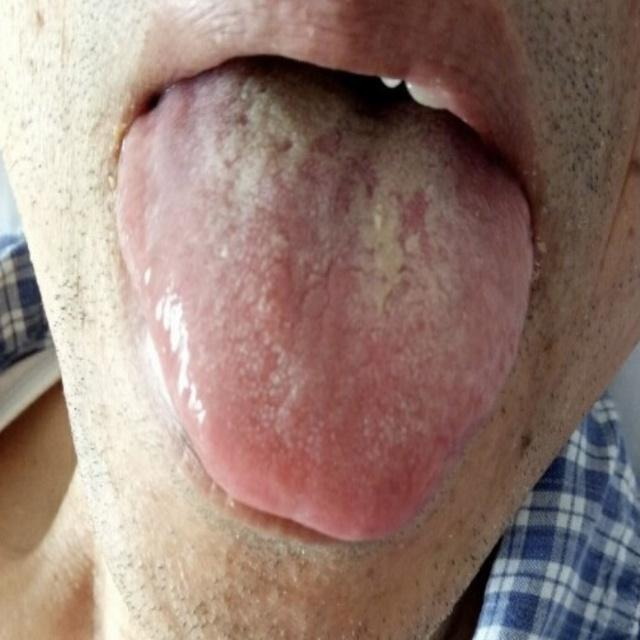botaishe: (267, 128, 381, 308)
huangtaishe: (113, 69, 536, 543)
pangdashe: (114, 69, 537, 543)
